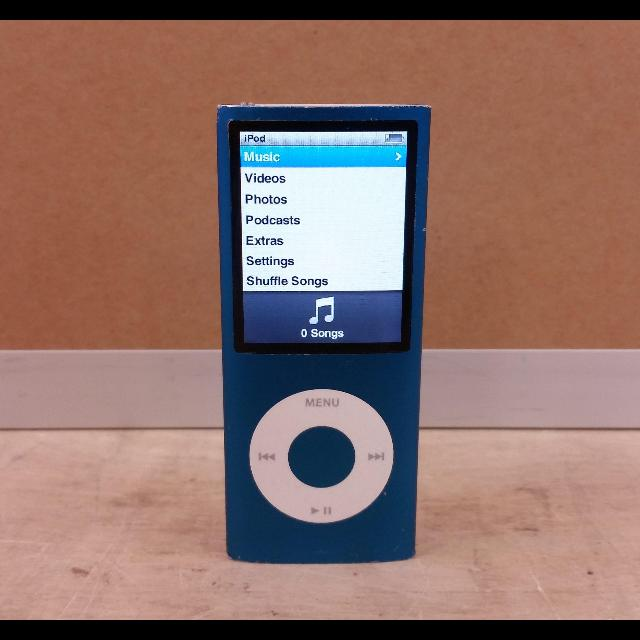Music-Player: (208, 82, 452, 580)
